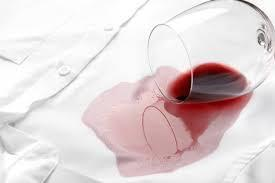oil: (91, 84, 221, 170), (143, 71, 247, 121), (119, 158, 171, 183)
